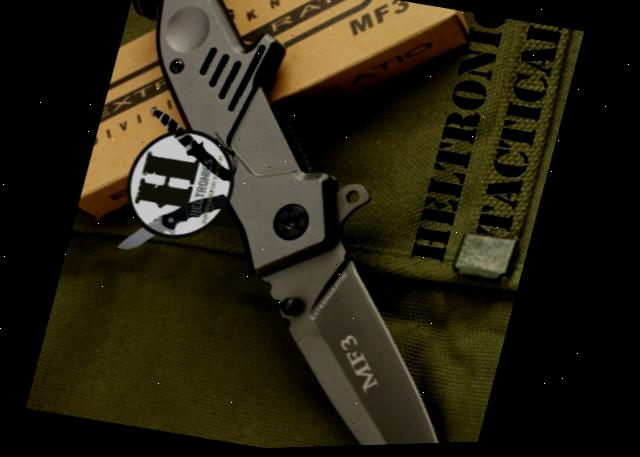pocket-knife: (27, 0, 587, 456)
